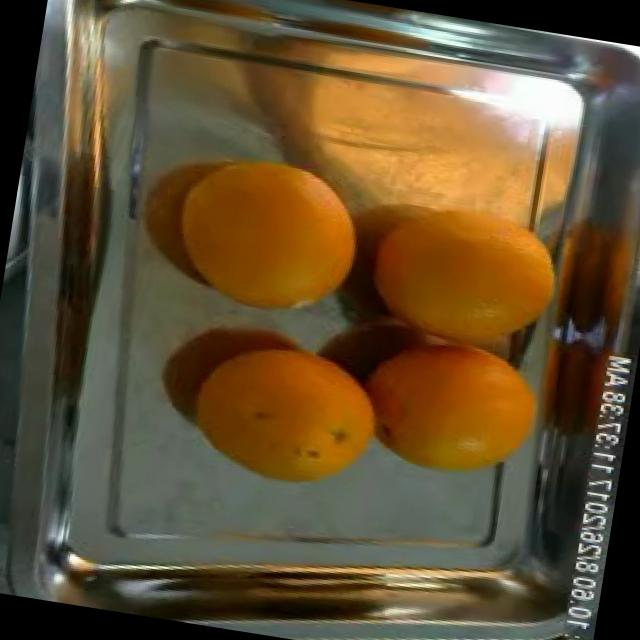Fruit: (337, 306, 566, 500), (174, 320, 398, 508)
